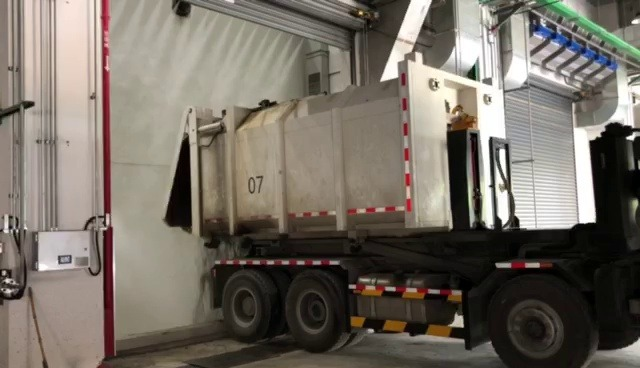dust: (105, 145, 186, 306)
truck: (190, 50, 640, 368)
